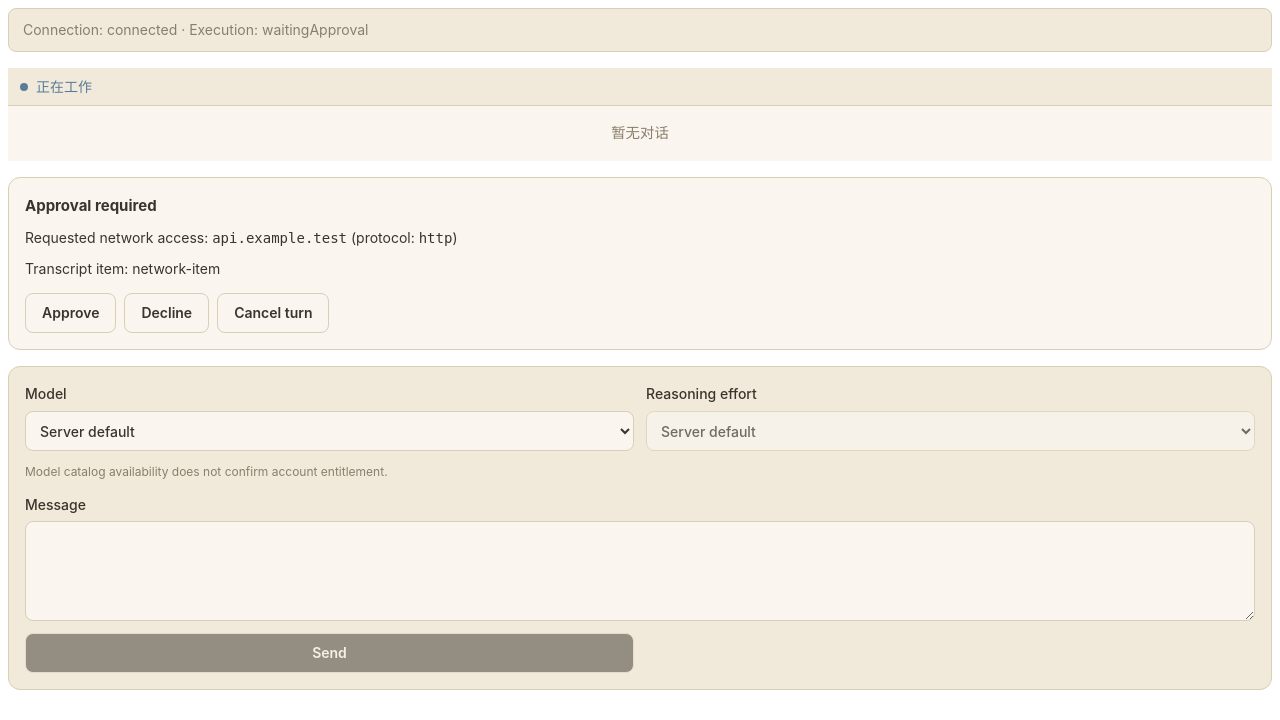
CodexSession › shows a context-only http network approval and preserves reply identity
expect the element named "Request network-request" shows "Transcript item: network-item": met, box x1=8 y1=177 x2=1272 y2=350
expect the button "Approve" is enabled: met, box x1=25 y1=293 x2=116 y2=333
Click the button "Decline": (167, 313) x1=124 y1=293 x2=209 y2=333
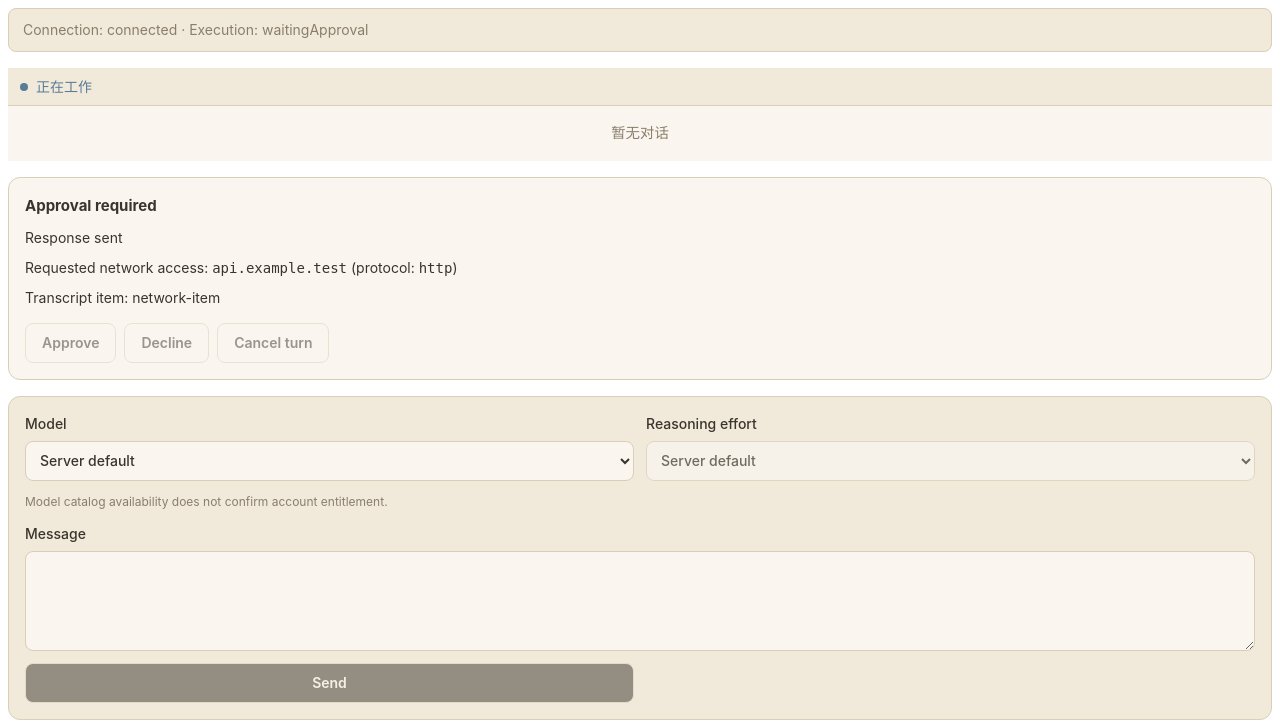
expect the text "Response sent" is shown: met, box x1=25 y1=229 x2=122 y2=246
expect the button "Decline" is disabled: met, box x1=124 y1=323 x2=209 y2=363
